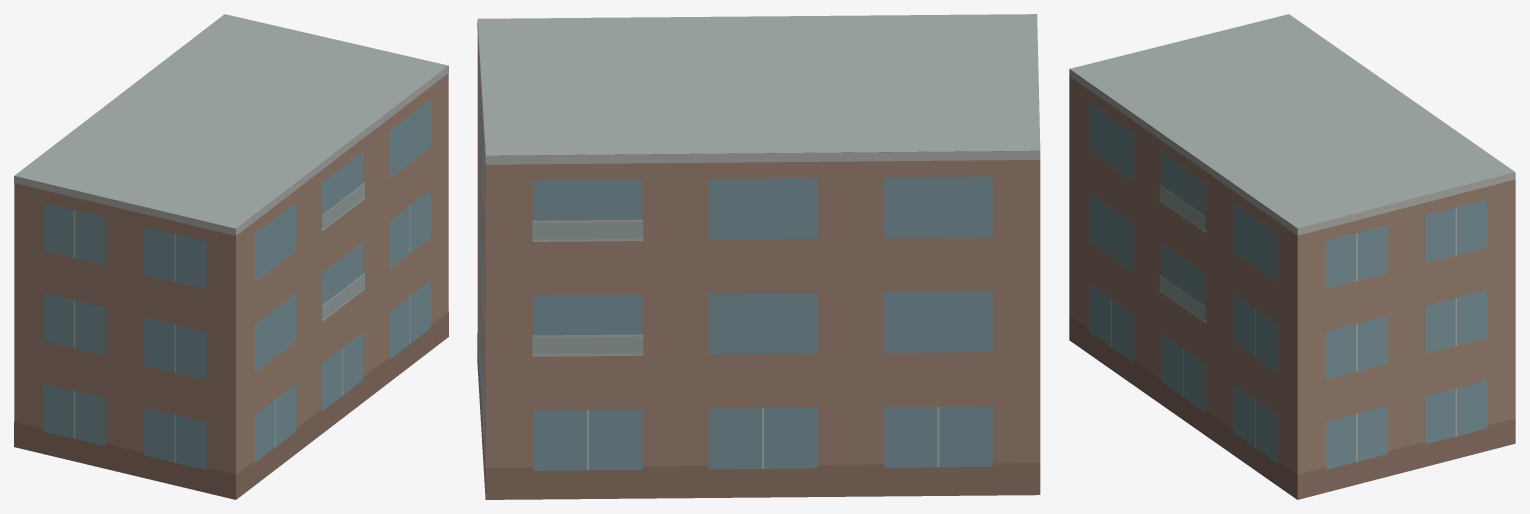
Rendered from survey-upis-32671810.glb.
3 views of the same model, side by side, from view 1: azimuth 30°, elevation 25°; view 2: azimuth 150°, elevation 25°; view 3: azimuth 270°, elevation 25° (orthographic). The views are drawn at different scales.
Parts seen in each view (by area): view 1: survey-upis-32671810.tmp; view 2: survey-upis-32671810.tmp; view 3: survey-upis-32671810.tmp.
Part boxes in pixels (x1,y1,x2,y2): survey-upis-32671810.tmp: (14,14,448,499); survey-upis-32671810.tmp: (477,14,1040,499); survey-upis-32671810.tmp: (1069,14,1515,499).
Size of the model in its own units: 15.51 by 9.15 by 13.64.
